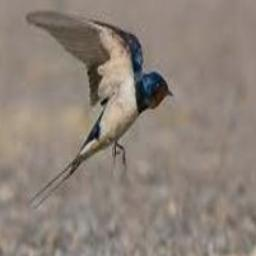Swallow: (25, 9, 173, 208)
